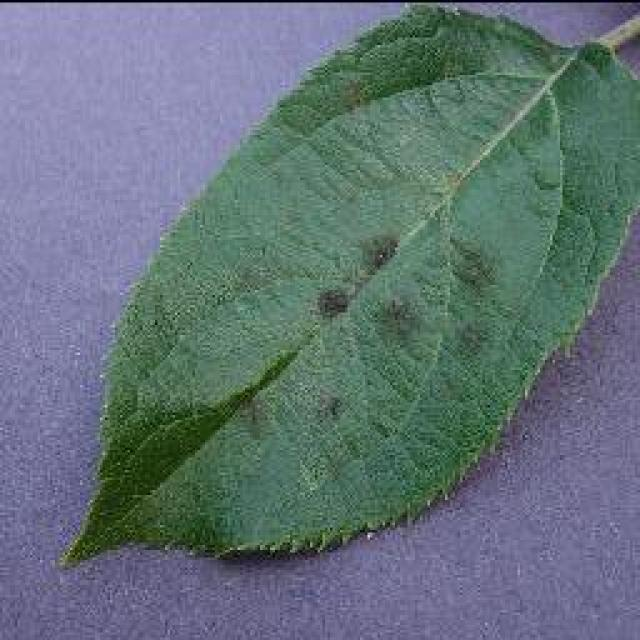apple scab disease: (58, 0, 638, 568)
